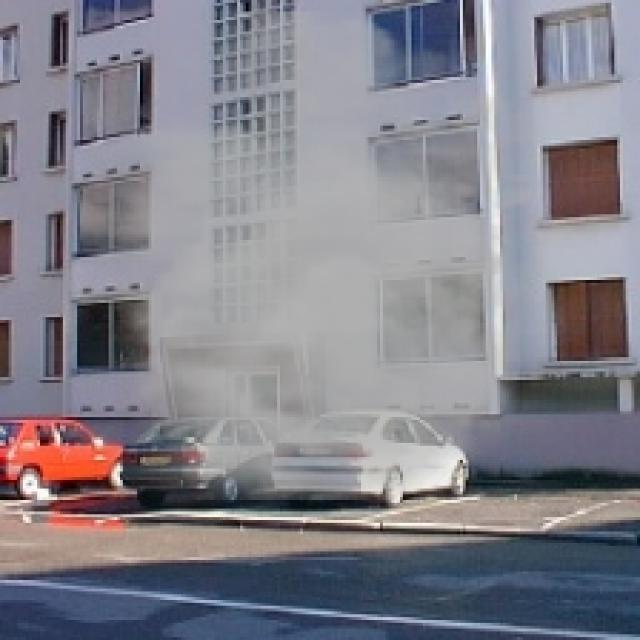smoke: (80, 11, 600, 532)
